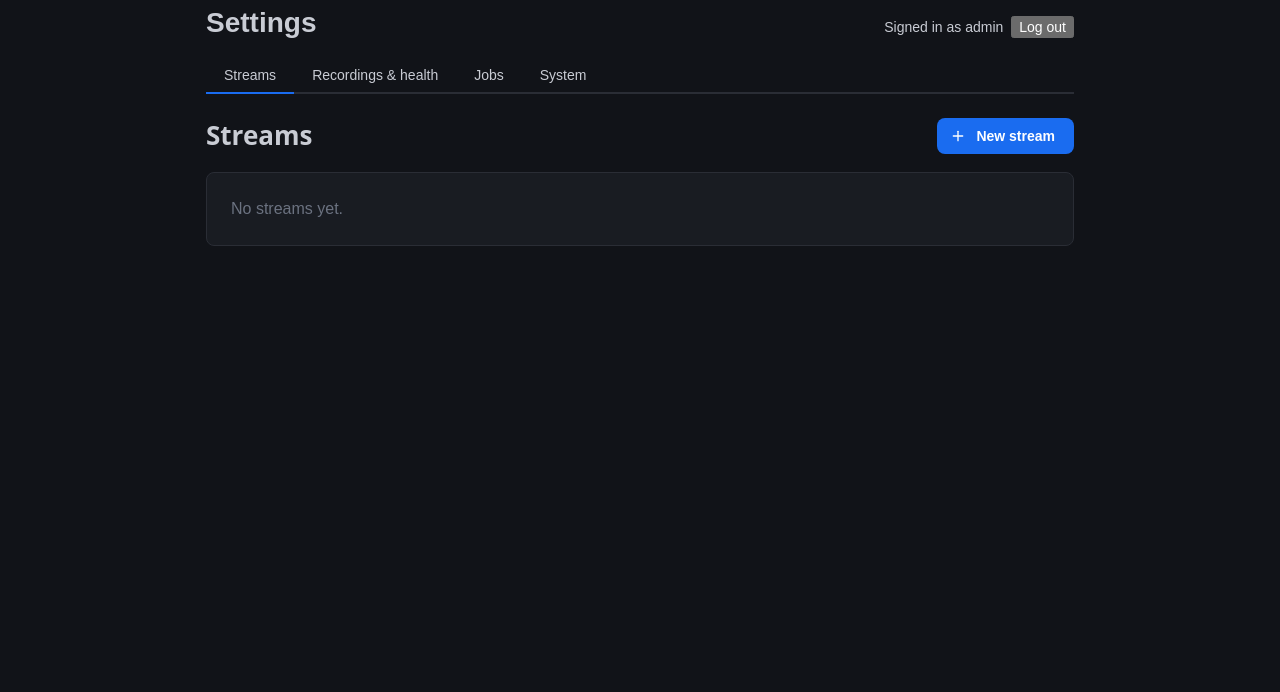
Test: SettingsPage auth gate › switches tabs: clicking a tab shows its panels and hides the others
Expected: the text "Signed in as admin" is shown, [884,19,1003,35]
Step 1. Click the tab "Recordings & health" → point(375, 76), box [294,58,456,94]
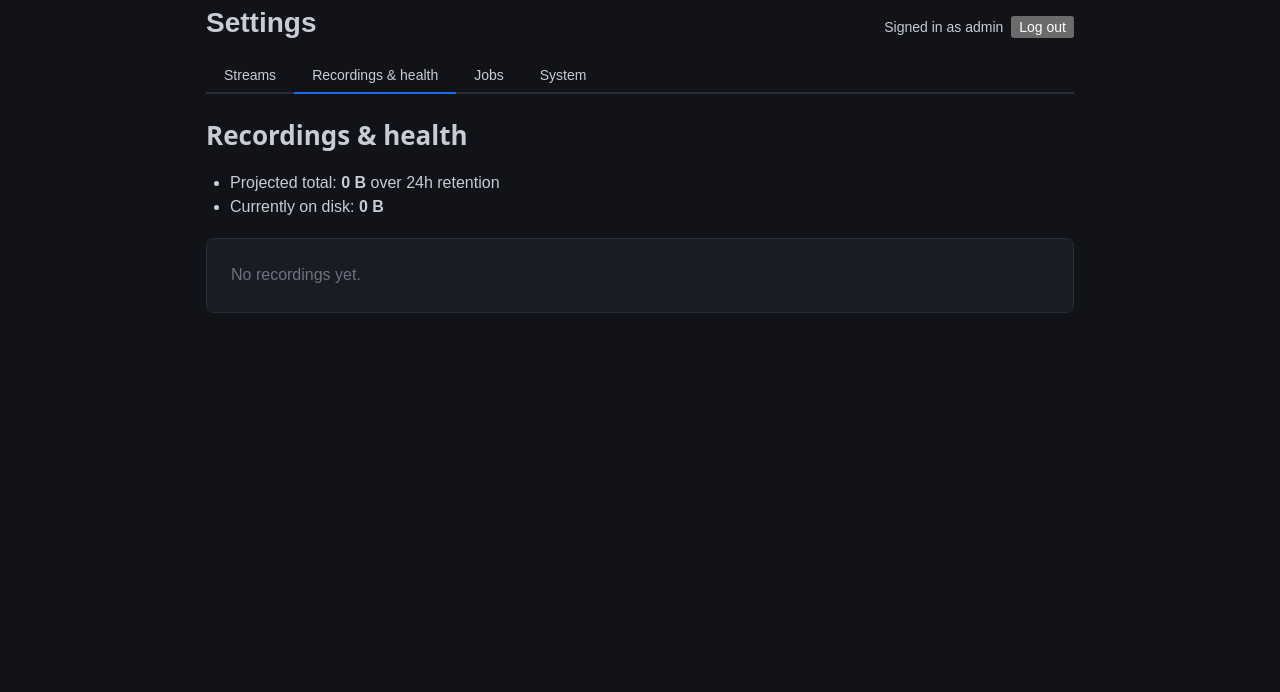
Now the heading "Recordings & health" is shown, box [206,116,468,152]
Step 2. Click the tab "Jobs" → point(489, 76), box [456,58,522,94]
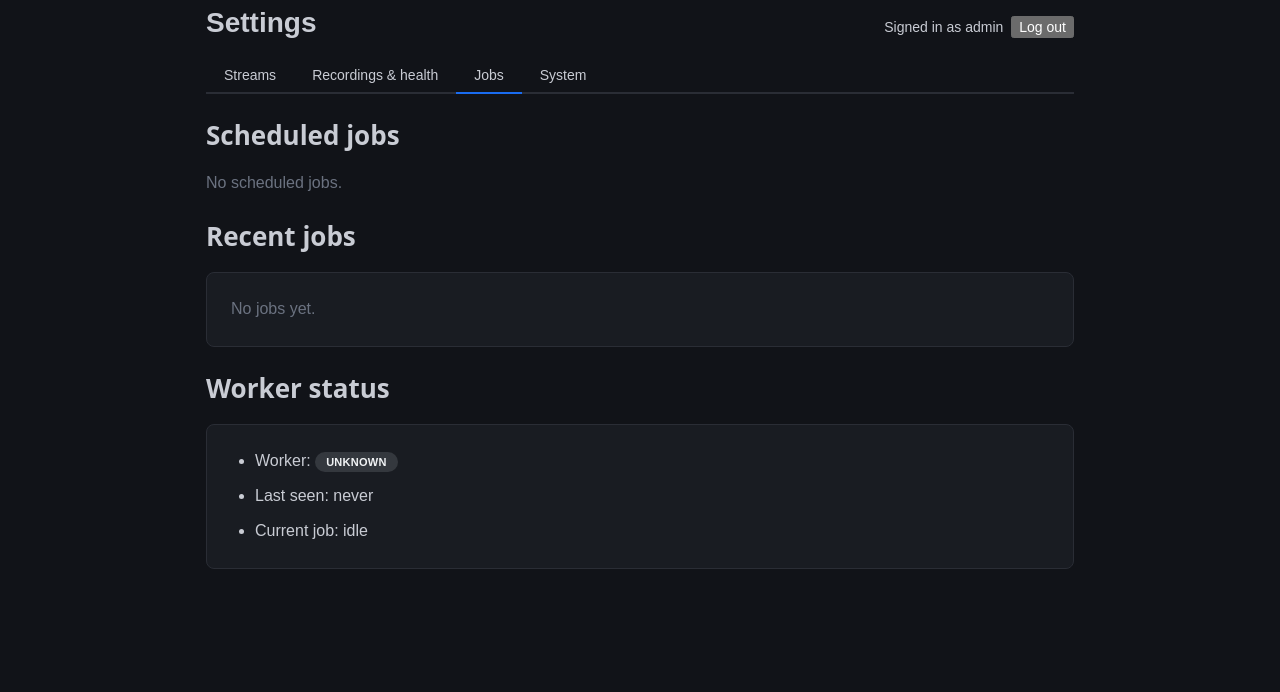
Now the heading "Scheduled jobs" is shown, box [206,116,400,152]
Now the heading "Worker status" is shown, box [206,370,390,406]
Step 3. Click the tab "System" → point(563, 76), box [522,58,604,94]
(page scrolled)
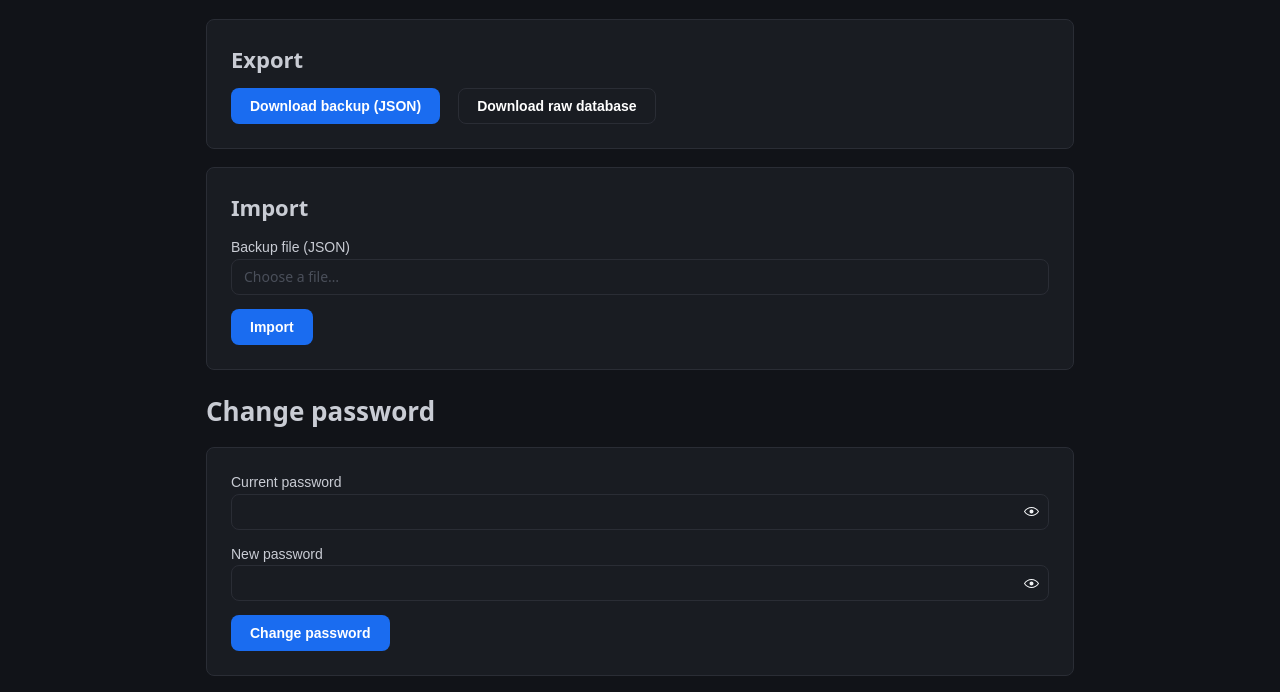
Now the heading "Change password" is shown, box [206,393,435,429]
Now the heading "Scheduled jobs" is gone
